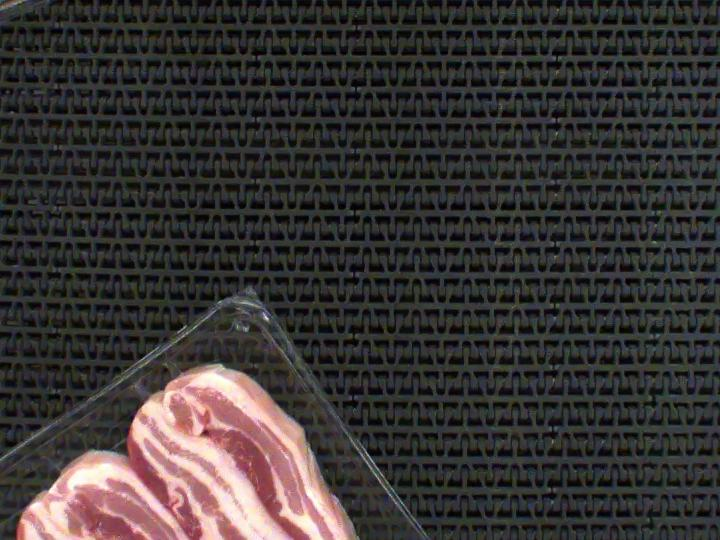packaging-error: (161, 354, 192, 384), (124, 381, 156, 404)
